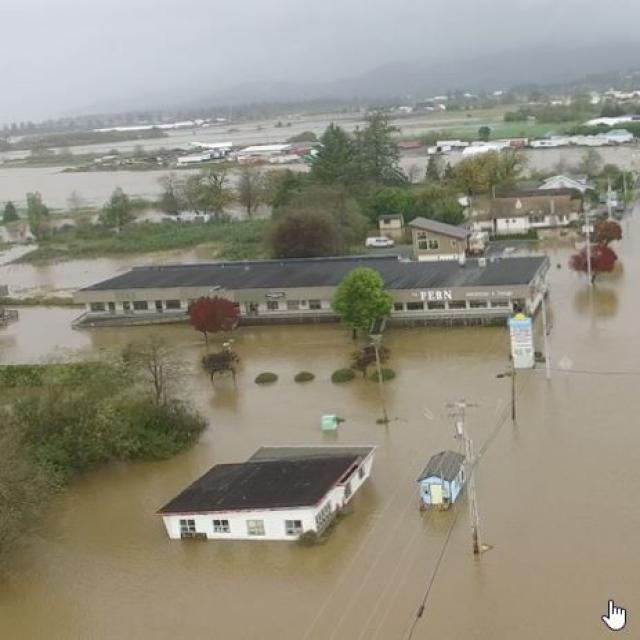flooded_areas: (26, 126, 639, 639)
